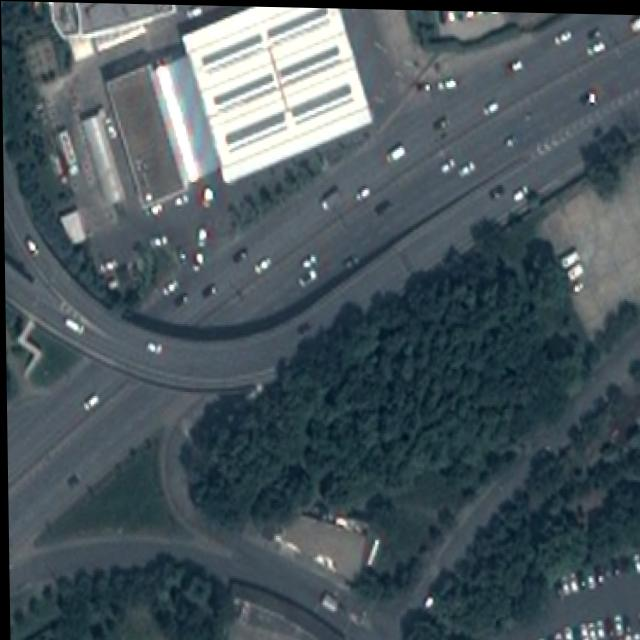Batiment: (183, 6, 370, 181), (106, 66, 181, 205), (49, 1, 175, 58), (80, 108, 123, 203)
